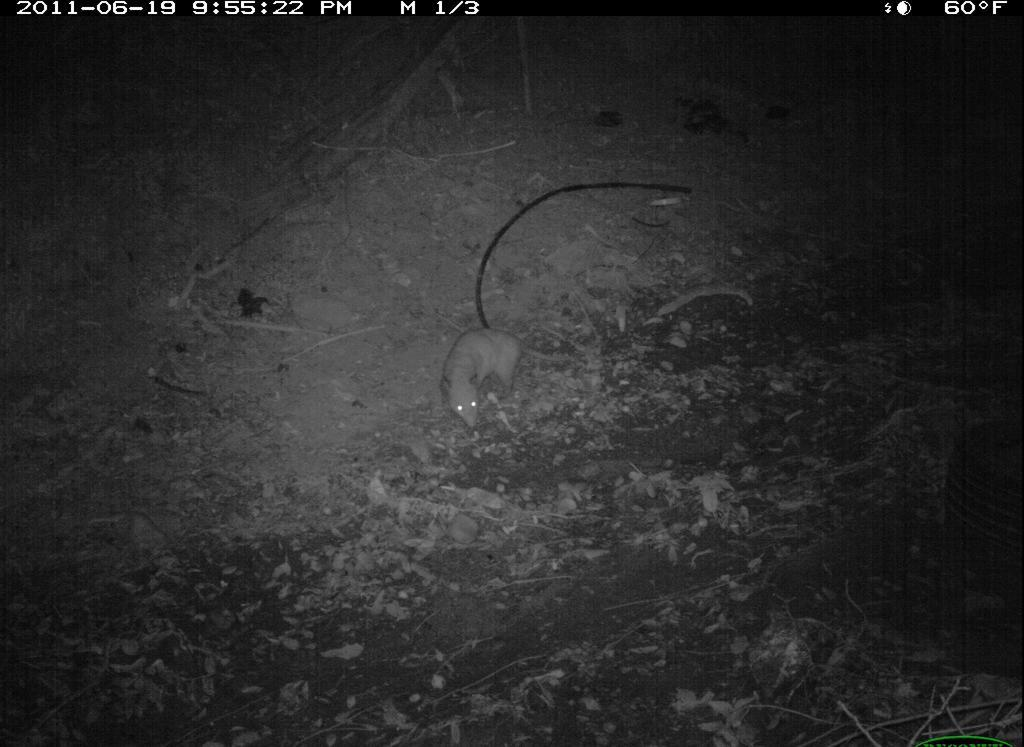opossum: (438, 324, 584, 434)
